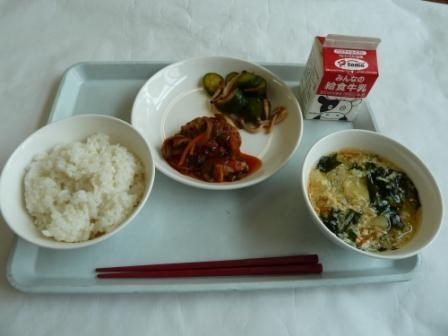Meat: (166, 110, 250, 187)
Milk: (307, 35, 386, 122)
Rice: (3, 109, 141, 245)
Soups: (306, 126, 443, 263)
salad with sauce: (202, 60, 279, 129)
